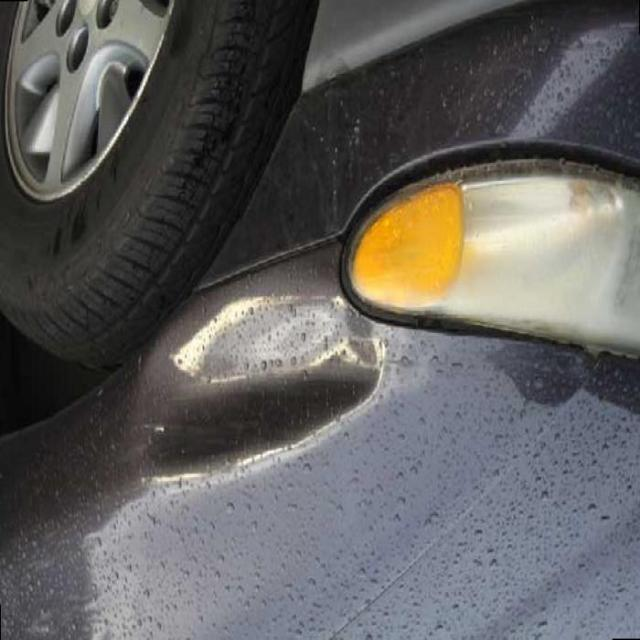dent: (106, 267, 388, 510)
